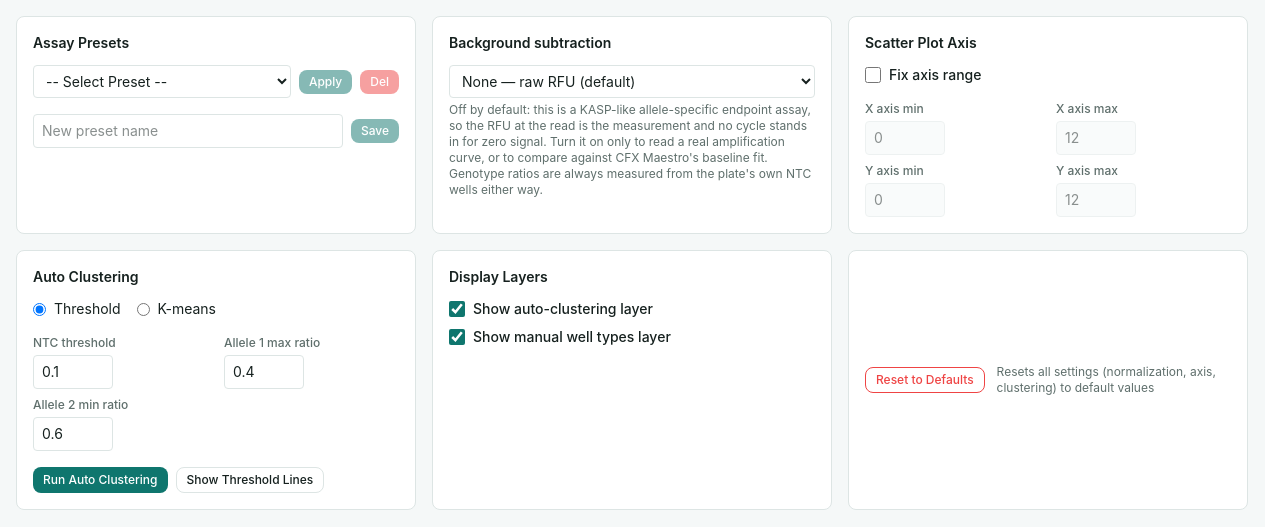
it: rejects unsupported preset algorithms before applying any settings
Select "Unsupported synthetic" in the dropdown named "-- Select Preset --" at (162, 82), box [33, 65, 291, 98]
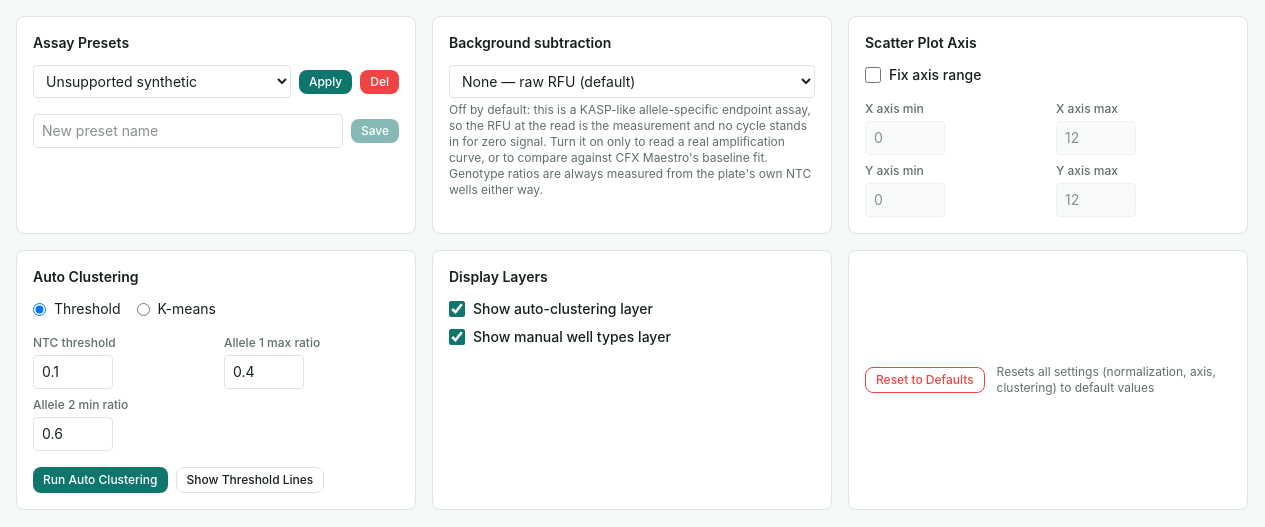
Click the button with id "apply-preset-btn" at (326, 82), box [299, 70, 352, 94]
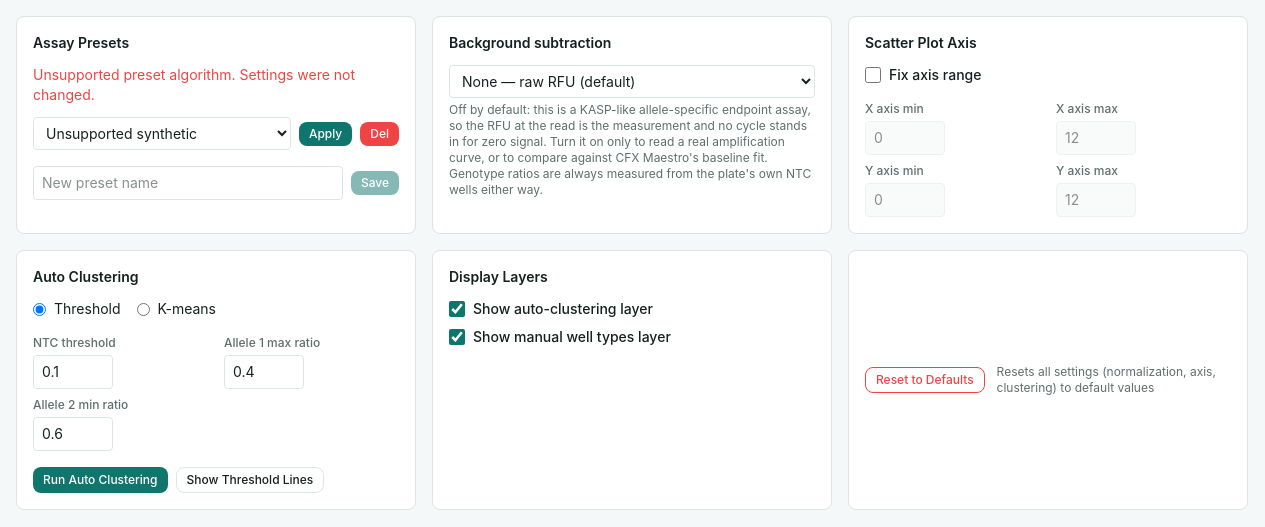
Now the message shows "Unsupported preset algorithm", box [33, 66, 355, 103]
